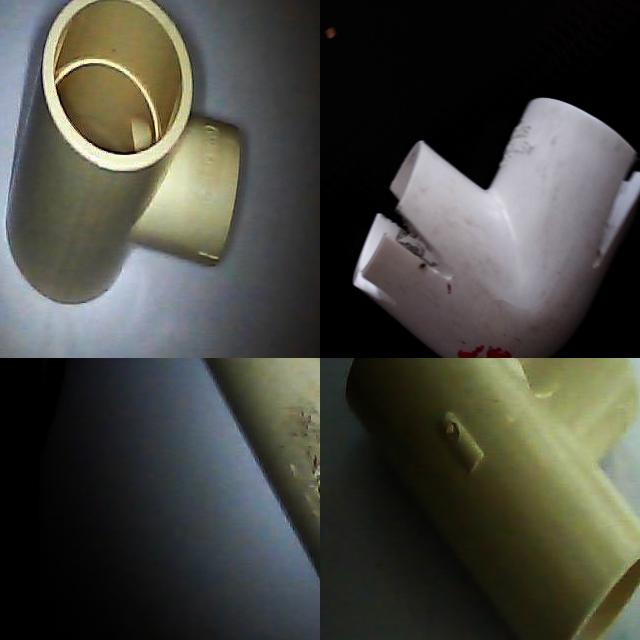T Joint: (343, 358, 640, 640), (4, 0, 247, 308)
